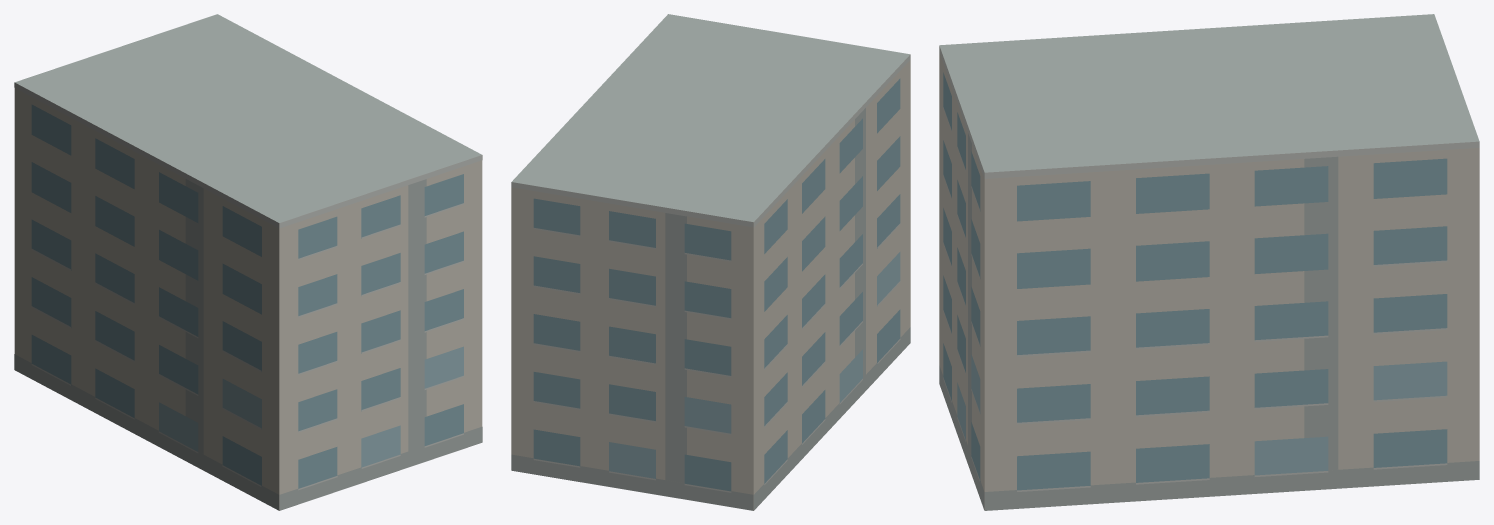
Rendered from survey-upis-33024619.glb.
3 renders of one model, left to right at view 1: azimuth 30°, elevation 25°; view 2: azimuth 150°, elevation 25°; view 3: azimuth 270°, elevation 25°, orthographic. The views are drawn at different scales.
Visible parts, largest first — view 1: survey-upis-33024619.tmp; view 2: survey-upis-33024619.tmp; view 3: survey-upis-33024619.tmp.
Boxes of the visible parts, x1,y1,x2,y2 form: survey-upis-33024619.tmp: (14, 14, 482, 510); survey-upis-33024619.tmp: (511, 14, 910, 510); survey-upis-33024619.tmp: (939, 14, 1479, 510).
Size of the model in its own units: 13.19 by 13.1 by 18.98.
